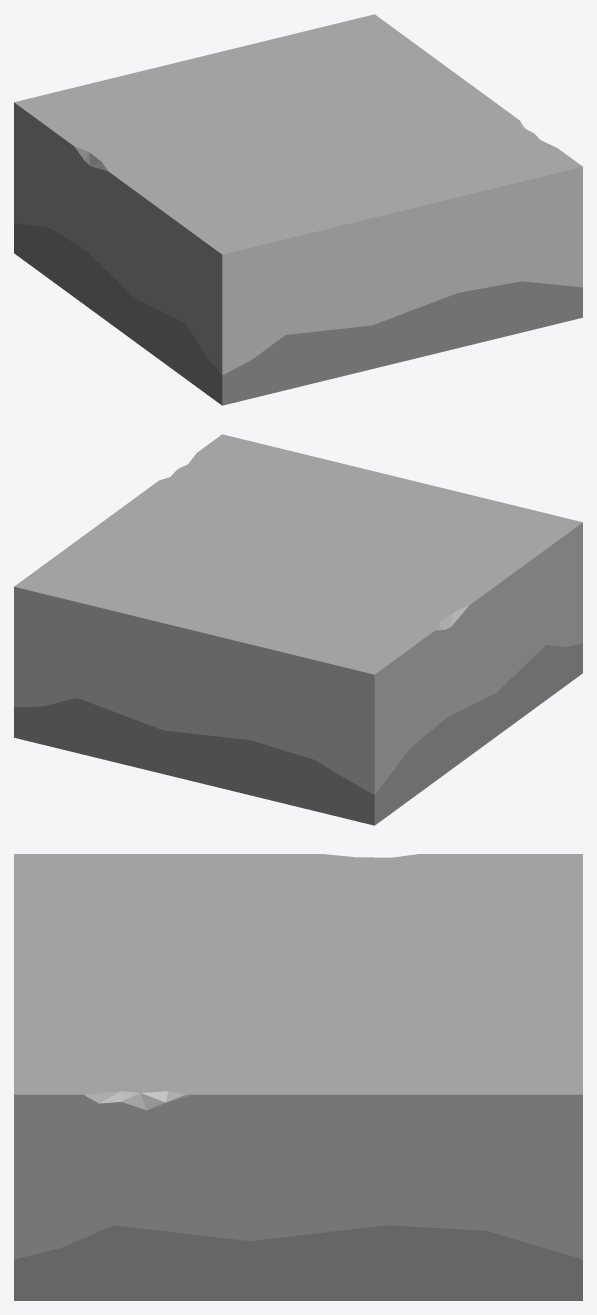
The model's file is Wh_Concrete_Block.fbx.
The picture shows the model from 3 angles, top to bottom: view 1: azimuth 30°, elevation 25°; view 2: azimuth 150°, elevation 25°; view 3: azimuth 270°, elevation 25°; orthographic projection. The views are drawn at different scales.
Visible parts, largest first — view 1: Cube.639; view 2: Cube.639; view 3: Cube.639.
Part boxes in pixels (<box>): Cube.639: <box>14,14,582,405</box>; Cube.639: <box>14,434,582,825</box>; Cube.639: <box>14,854,582,1300</box>.
Bounding box in the file's own units: 300 × 120 × 300.
